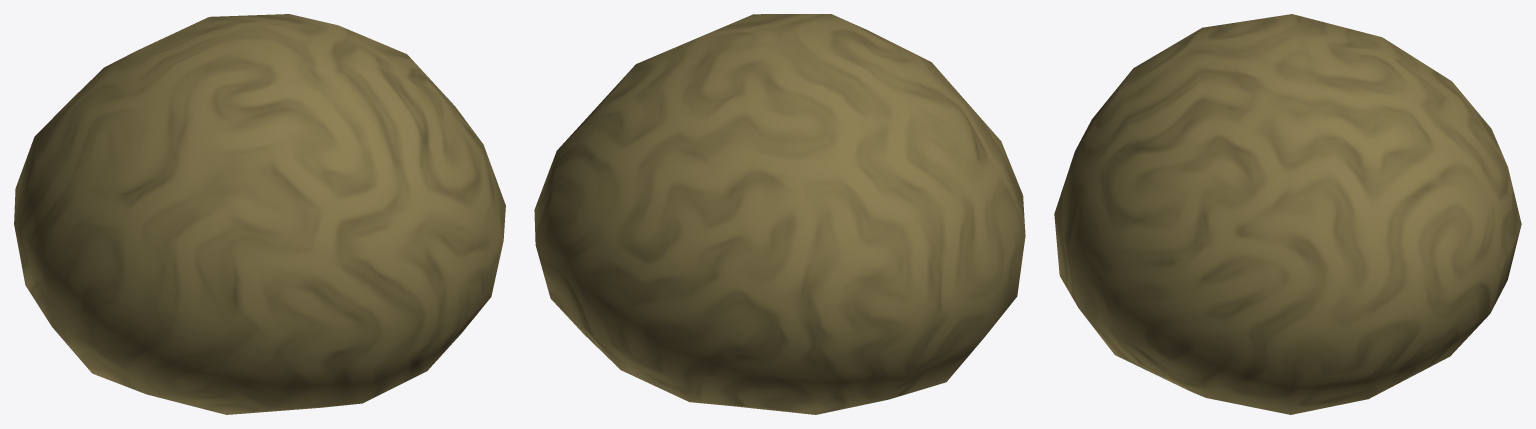
Rendered from coral22_FBX_still.fbx.
3 renders of one model, left to right at view 1: azimuth 30°, elevation 25°; view 2: azimuth 150°, elevation 25°; view 3: azimuth 270°, elevation 25°, orthographic. The views are drawn at different scales.
Visible parts, largest first — view 1: coral22_gameasset; view 2: coral22_gameasset; view 3: coral22_gameasset.
Boxes of the visible parts, box(x1,y1,x2,y2) form: coral22_gameasset: box(14, 14, 505, 414); coral22_gameasset: box(534, 14, 1025, 414); coral22_gameasset: box(1054, 14, 1521, 414).
Bounding box in the file's own units: 1.23 × 0.9581 × 1.21.
Materials: 1 (1 with a texture image).
